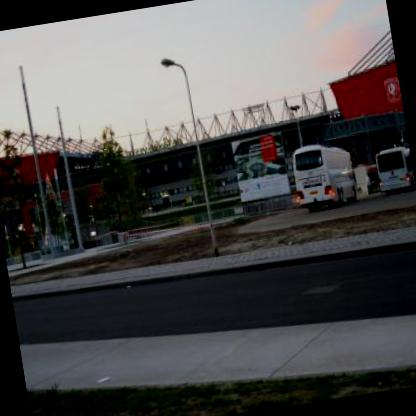bus: (288, 135, 360, 213), (371, 143, 415, 198)
